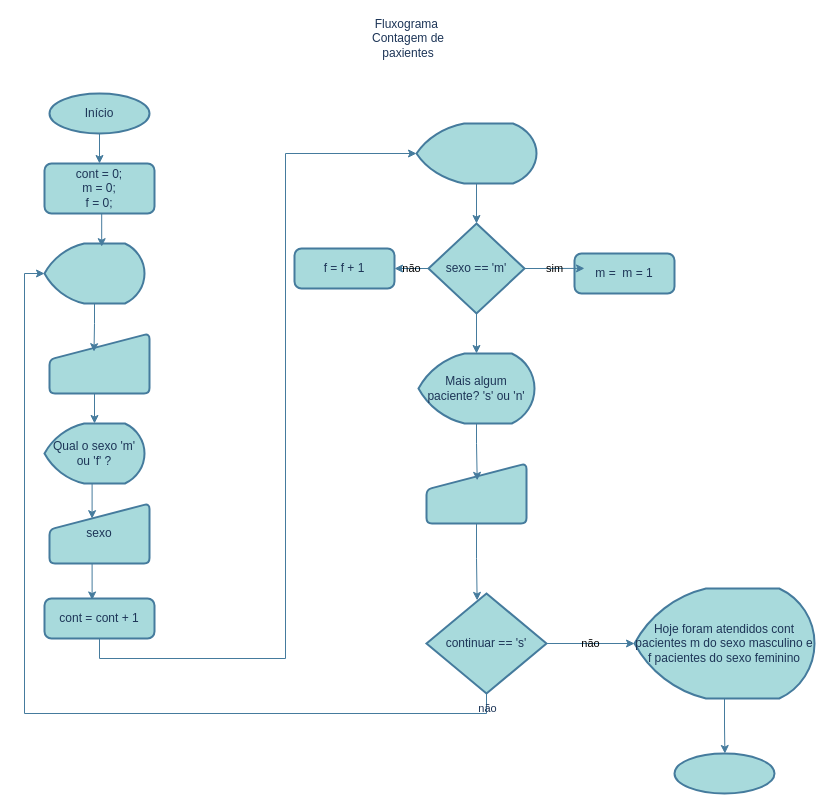
The diagram is 833 pixels wide and 812 high, and some of its shapes have lost their labels. The centre of each missing label's shape, as x and y in pixels:
"Continuar" goes at point (476, 493).
"Fim" goes at point (724, 773).
"nome" goes at point (99, 363).
"Qual o seu nome?" goes at point (94, 273).
"Você é o paciente número, cont" goes at point (476, 153).
